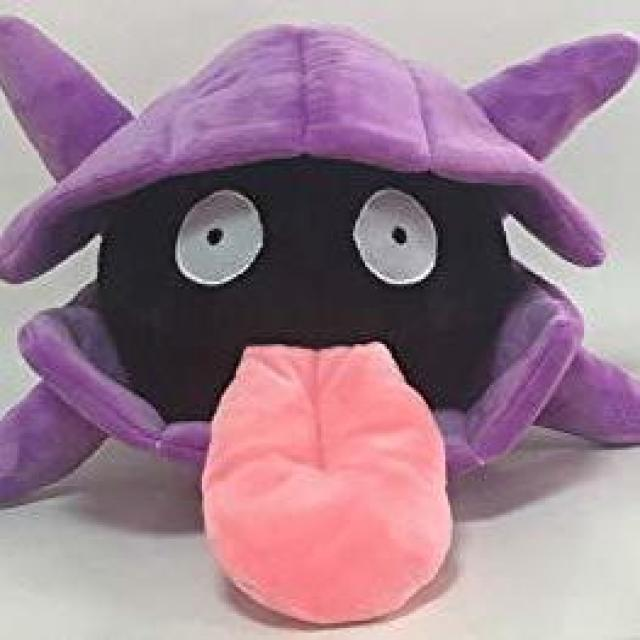Shellder: (0, 22, 640, 534)
